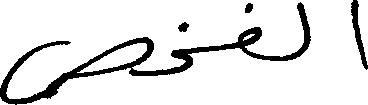X: (0, 32, 151, 104), (238, 0, 260, 63), (172, 17, 193, 78), (351, 0, 367, 74), (297, 0, 311, 61)
